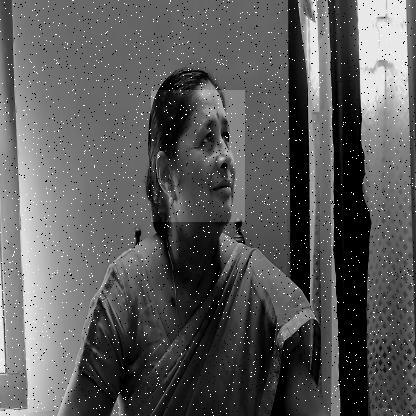Distracted: (151, 90, 245, 222)
